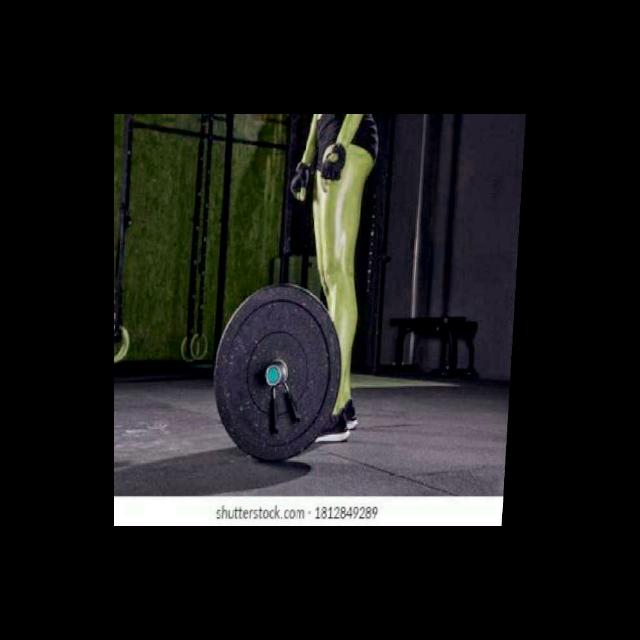barbell: (207, 282, 351, 466)
